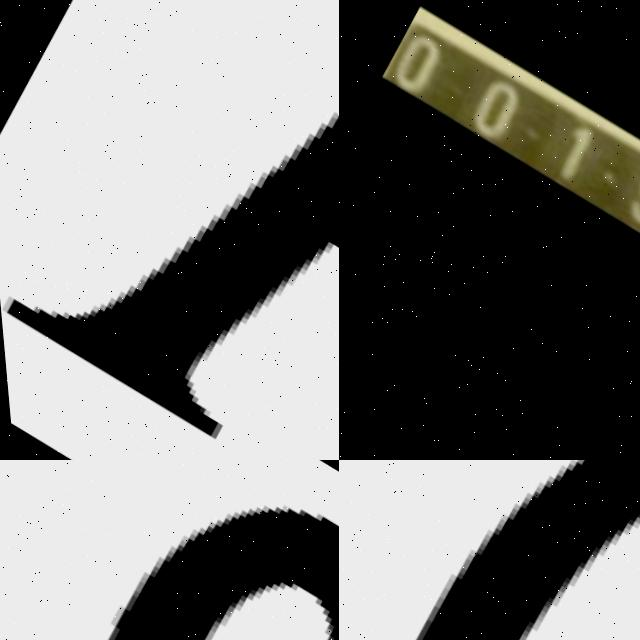0: (339, 460, 640, 640), (454, 66, 529, 142), (376, 21, 449, 97)
1: (536, 112, 604, 185)
9: (0, 460, 339, 640), (608, 155, 640, 232)
F: (0, 106, 339, 437)
